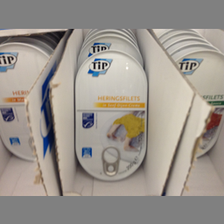fish: (73, 50, 149, 182), (172, 48, 224, 165), (1, 42, 48, 161)
